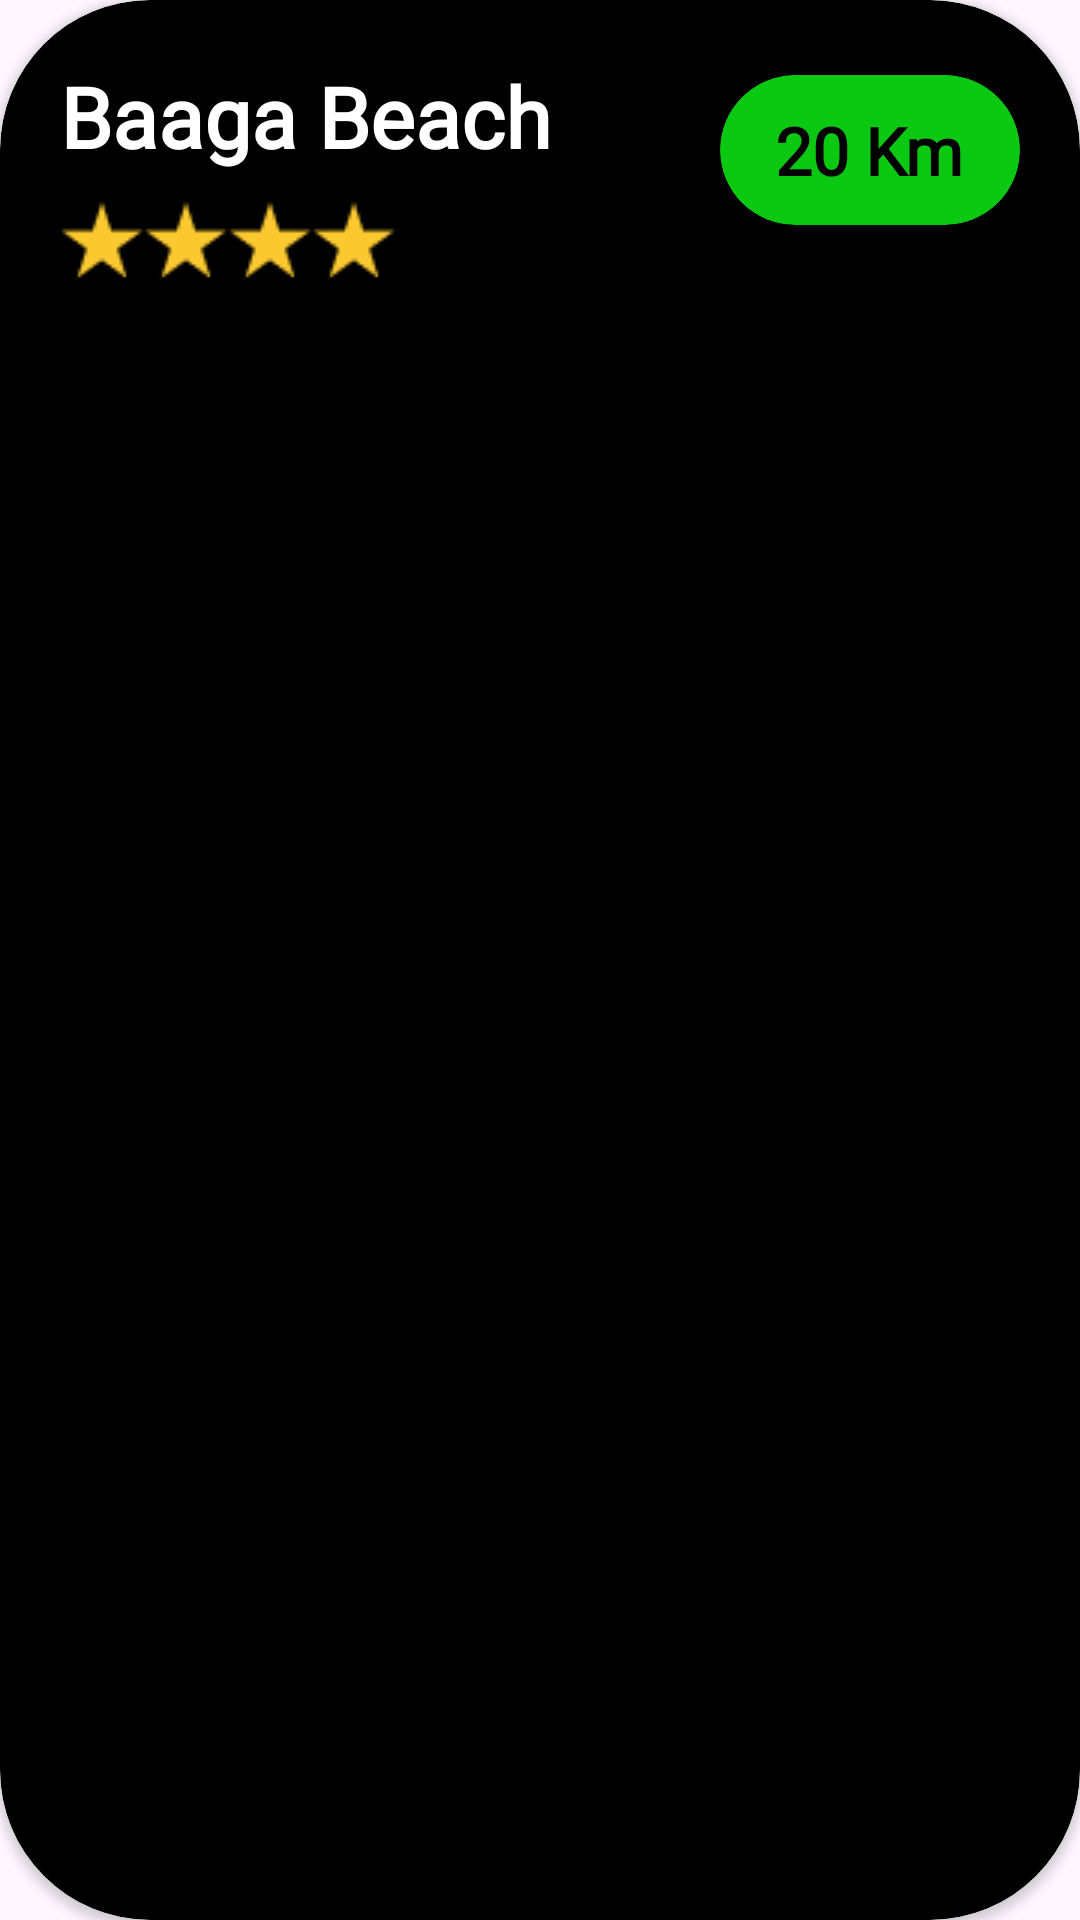

Icons on this 1080*1920 Android screen, each with the point to tap as point (x, y):
star: point (102, 240), point (186, 240), point (270, 240), point (354, 240)
